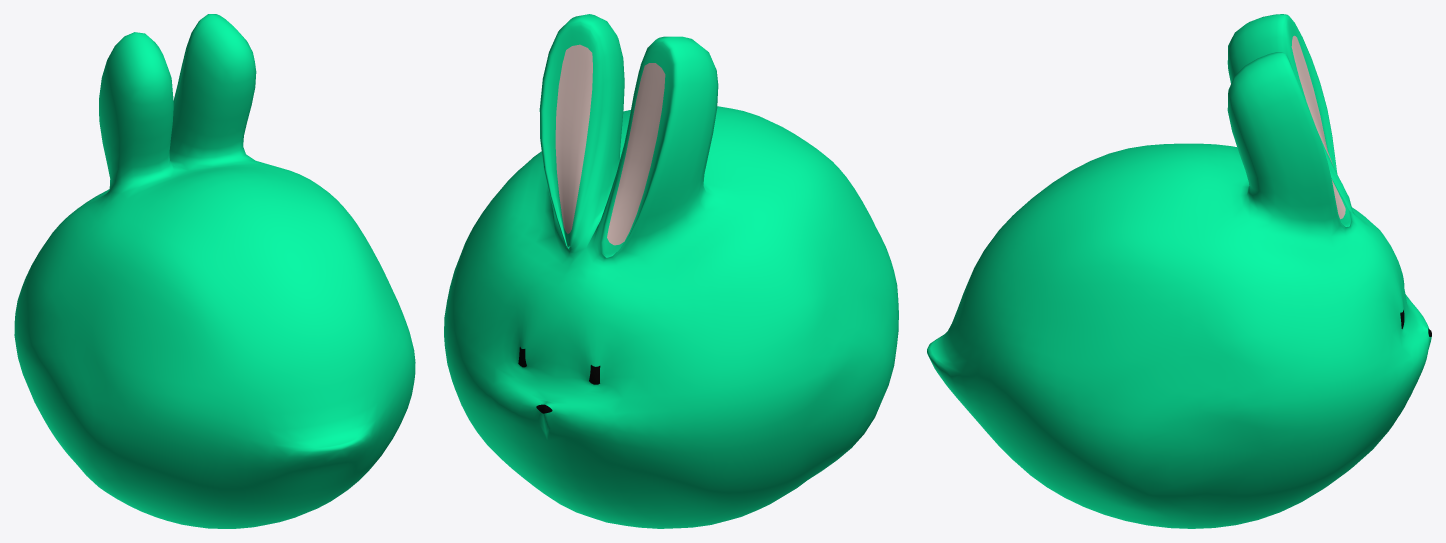
Rendered from prey_53.glb.
3 views of the same model, side by side, from view 1: azimuth 30°, elevation 25°; view 2: azimuth 150°, elevation 25°; view 3: azimuth 270°, elevation 25° (orthographic). The views are drawn at different scales.
Visible parts, largest first — view 1: Cube; view 2: Cube; view 3: Cube.
Part boxes in pixels (x1,y1,x2,y2): Cube: (14,14,415,528); Cube: (444,14,898,528); Cube: (927,14,1431,528).
Size of the model in its own units: 4.03 by 5.34 by 5.15.
